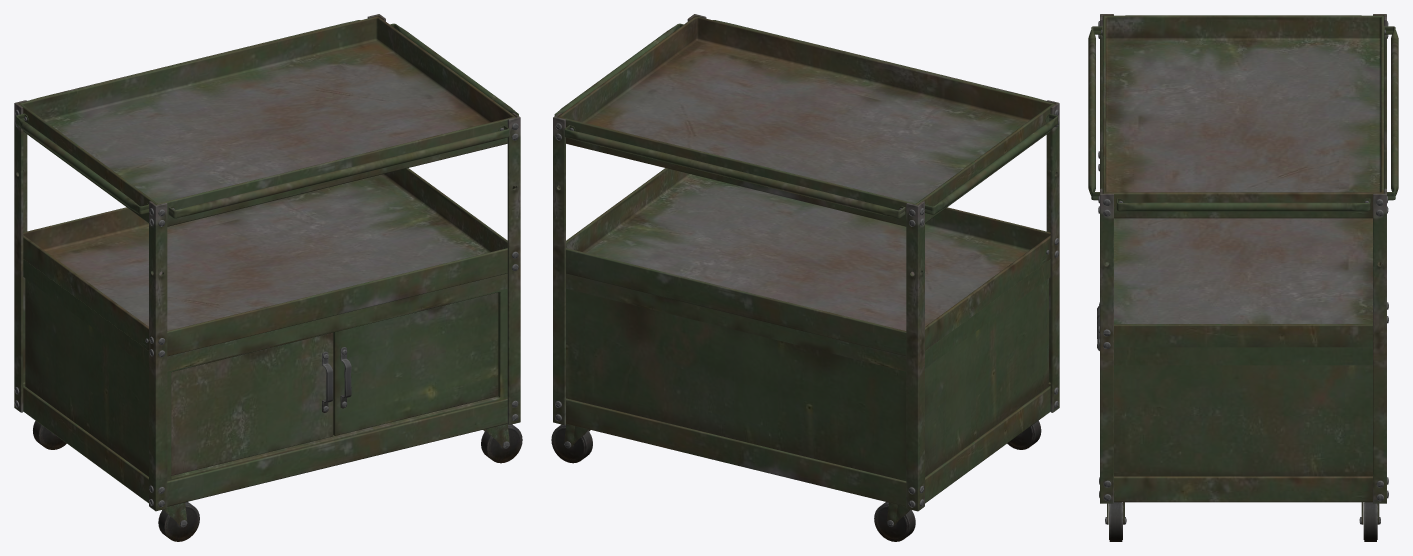
The model's file is prop_industrial_storage_cart.glb.
3 renders of one model, left to right at view 1: azimuth 30°, elevation 25°; view 2: azimuth 150°, elevation 25°; view 3: azimuth 270°, elevation 25°, orthographic.
Parts seen in each view (by area): view 1: industrial_storage_cart; view 2: industrial_storage_cart; view 3: industrial_storage_cart.
Boxes of the visible parts, box(x1,y1,x2,y2) form: industrial_storage_cart: box(14, 14, 522, 541); industrial_storage_cart: box(551, 14, 1059, 541); industrial_storage_cart: box(1088, 14, 1398, 541).
Bounding box in the file's own units: 1.6 × 1.38 × 1.1.
Materials: 1 (1 with a texture image).
